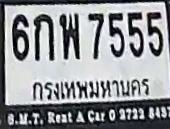5: (146, 12, 164, 56), (108, 12, 125, 58), (127, 12, 144, 57)
6: (11, 14, 29, 60)
7: (87, 12, 104, 60)
A01: (33, 13, 54, 61)
A30: (59, 12, 80, 60)
BKK: (28, 73, 154, 100)
